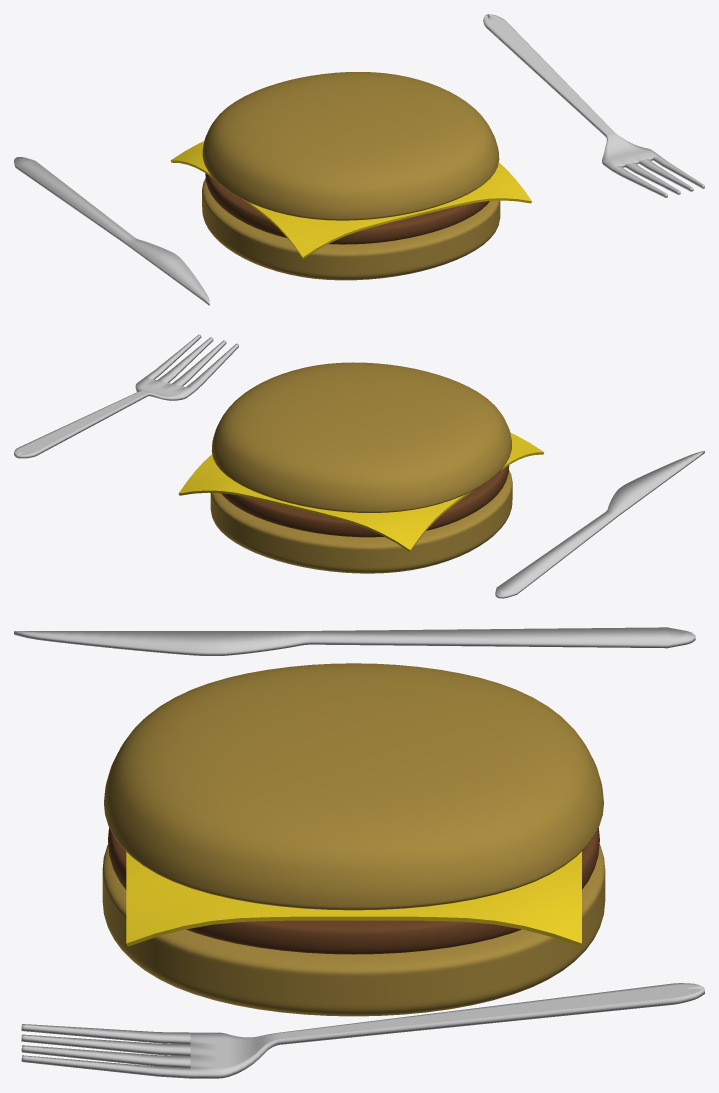
The model's file is burger.glb.
3 views of the same model, one above another, from view 1: azimuth 30°, elevation 25°; view 2: azimuth 150°, elevation 25°; view 3: azimuth 270°, elevation 25° (orthographic). The views are drawn at different scales.
Visible parts, largest first — view 1: Cube.002, Cube, Plane.001, Plane, Cube.001, Plane.002; view 2: Cube.002, Cube, Plane, Plane.001, Cube.001, Plane.002; view 3: Cube.002, Cube, Plane.001, Plane, Plane.002, Cube.001.
Boxes of the visible parts, <box> form: Cube.002: <box>202,72,499,220</box>; Cube: <box>202,178,500,280</box>; Plane.001: <box>483,14,704,197</box>; Plane: <box>170,141,531,258</box>; Cube.001: <box>205,173,489,244</box>; Plane.002: <box>14,157,209,305</box>; Cube.002: <box>211,362,511,512</box>; Cube: <box>210,470,512,573</box>; Plane: <box>178,432,544,551</box>; Plane.001: <box>14,334,238,458</box>; Cube.001: <box>221,465,509,537</box>; Plane.002: <box>495,450,704,598</box>; Cube.002: <box>104,663,603,910</box>; Cube: <box>102,844,605,1016</box>; Plane.001: <box>21,983,704,1078</box>; Plane: <box>126,851,581,946</box>; Plane.002: <box>14,627,695,655</box>; Cube.001: <box>108,827,599,954</box>.
Size of the model in its own units: 18.26 by 4.01 by 12.54.
